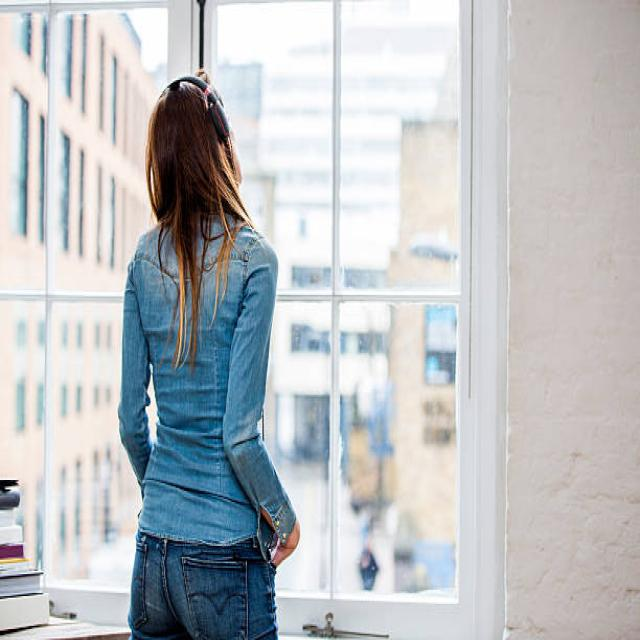Headphone: (158, 74, 232, 141)
